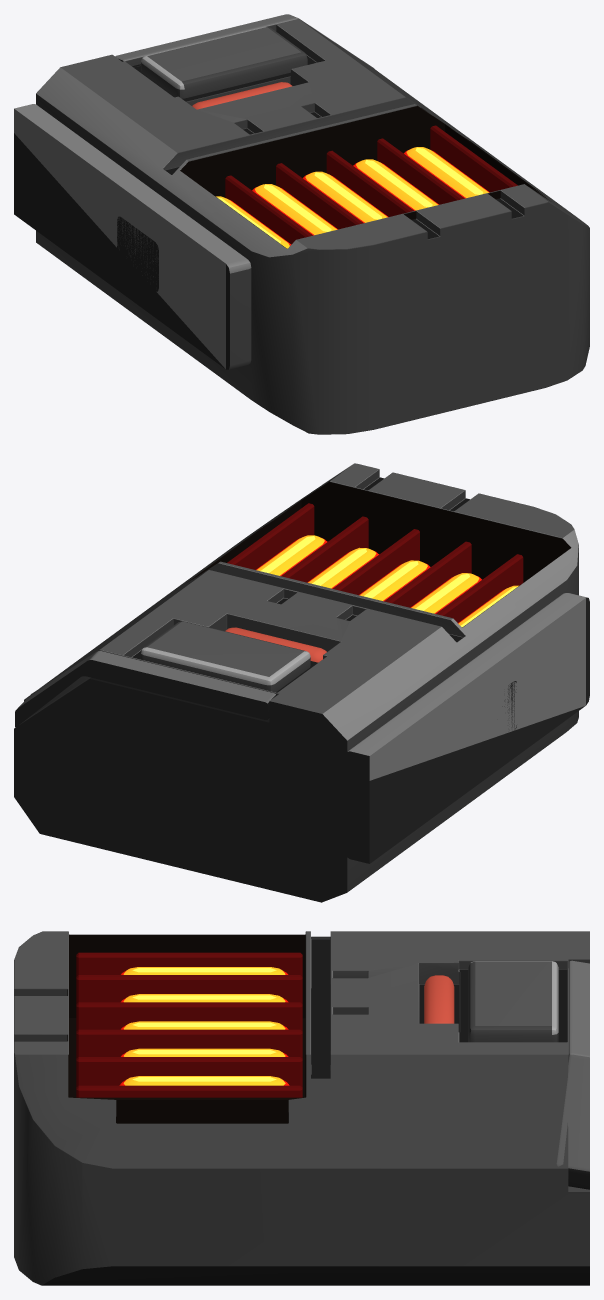
Rendered from ixm_dock_br.glb.
3 views of the same model, one above another, from view 1: azimuth 30°, elevation 25°; view 2: azimuth 150°, elevation 25°; view 3: azimuth 270°, elevation 25° (orthographic). The views are drawn at different scales.
Parts seen in each view (by area): view 1: ixm_dock_br; view 2: ixm_dock_br; view 3: ixm_dock_br.
Part boxes in pixels (bbox=[...]): ixm_dock_br: bbox=[14, 14, 589, 434]; ixm_dock_br: bbox=[14, 463, 589, 902]; ixm_dock_br: bbox=[14, 931, 589, 1285].
Size of the model in its own units: 20.7 by 10.88 by 26.75.
